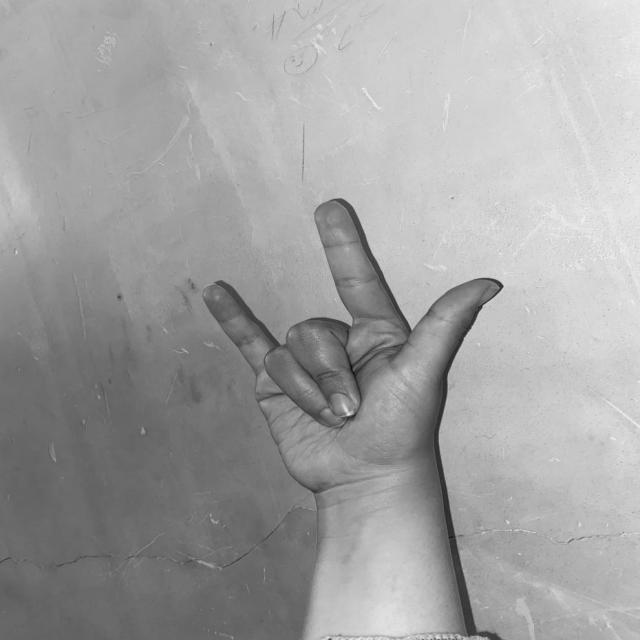i love you: (193, 189, 509, 500)
